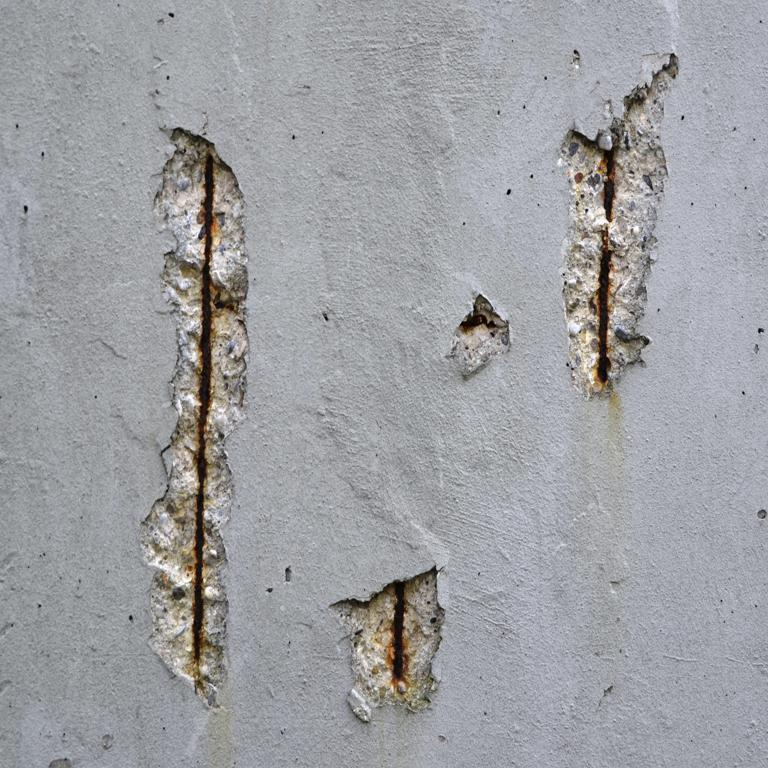exposed_rebar: (192, 156, 212, 661), (597, 226, 612, 383), (392, 582, 404, 680), (603, 148, 615, 221), (460, 315, 487, 329)
spalling: (141, 129, 249, 706), (561, 54, 678, 396), (333, 568, 444, 721), (447, 294, 510, 377)
